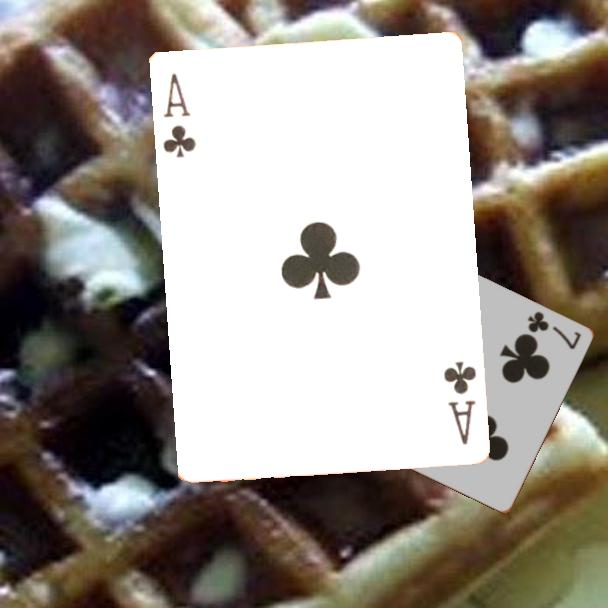c01: (159, 70, 199, 160), (439, 357, 478, 447)
c07: (523, 308, 584, 353)
